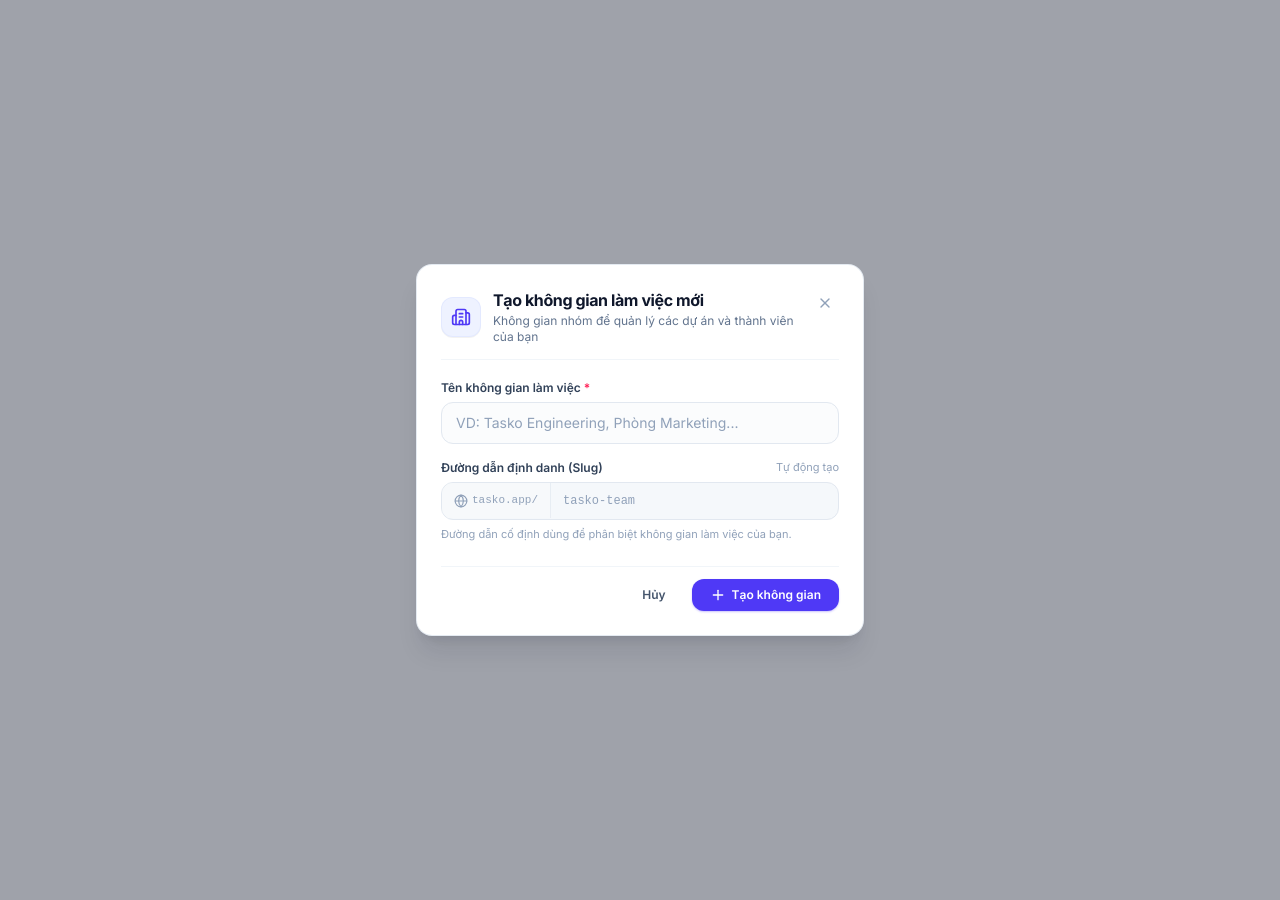
Test case: CreateWorkspaceModal - Frontend Unit Tests › hiển thị thông báo lỗi khi submit với tên để trống
Click the button "Tạo không gian" at (765, 595), box x1=692 y1=579 x2=839 y2=611
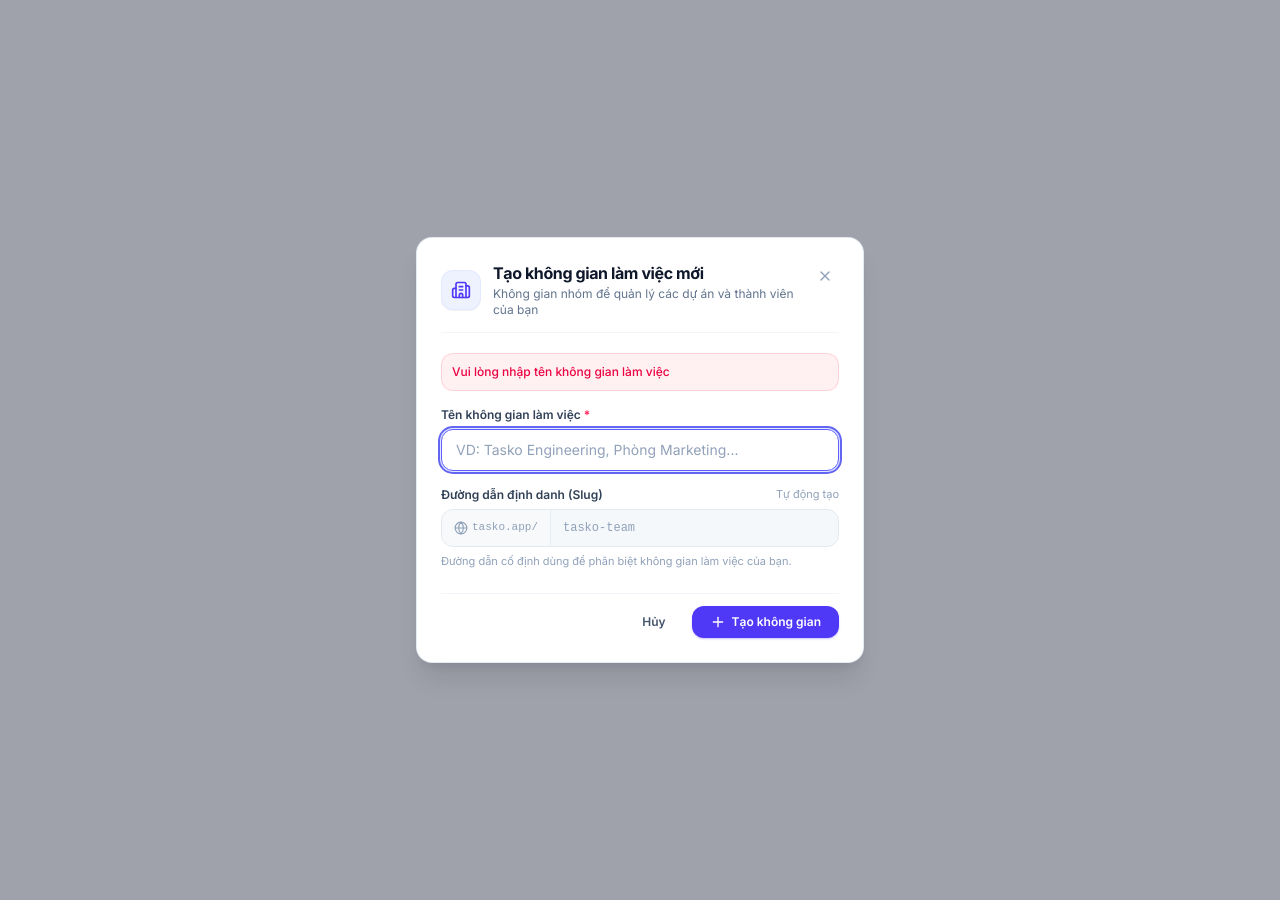
Check: the text "Vui lòng nhập tên không gian làm việc" is shown, box x1=441 y1=353 x2=839 y2=391
